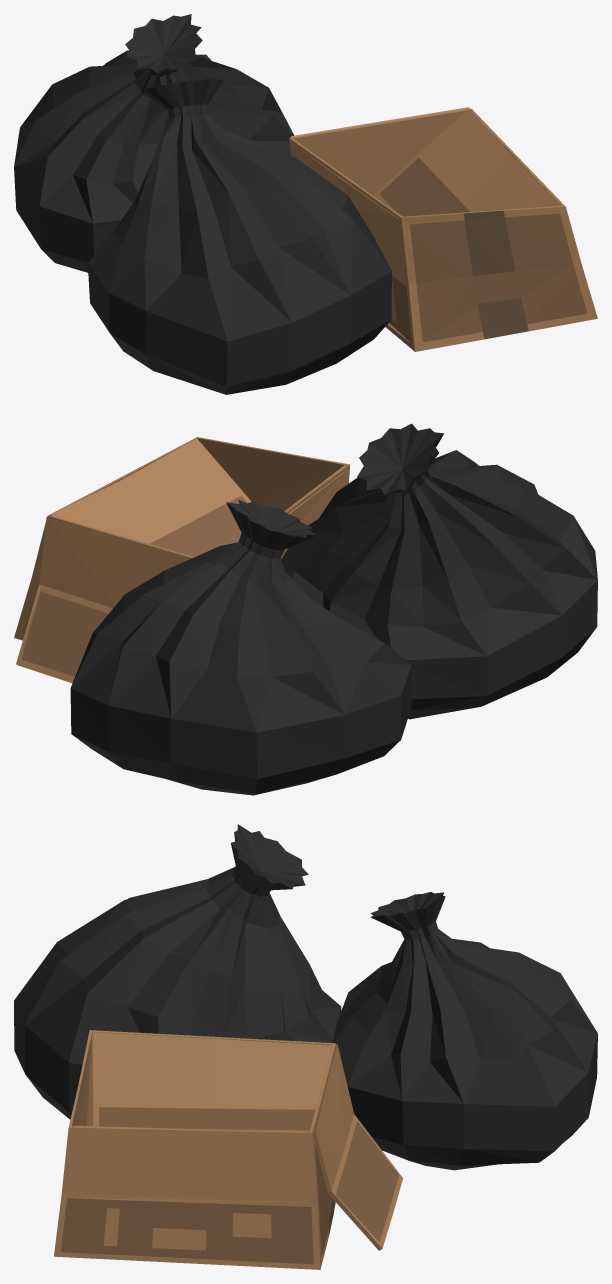
File: SM_trash.gltf
3 views of the same model, one above another, from view 1: azimuth 30°, elevation 25°; view 2: azimuth 150°, elevation 25°; view 3: azimuth 270°, elevation 25° (orthographic). The views are drawn at different scales.
Visible parts, largest first — view 1: SM_trash; view 2: SM_trash; view 3: SM_trash.
Boxes of the visible parts, x1,y1,x2,y2 form: SM_trash: [14, 14, 597, 394]; SM_trash: [14, 423, 597, 795]; SM_trash: [14, 824, 597, 1269].
Bounding box in the file's own units: 1.36 × 0.7297 × 1.47.
1 material, 1 textured.
